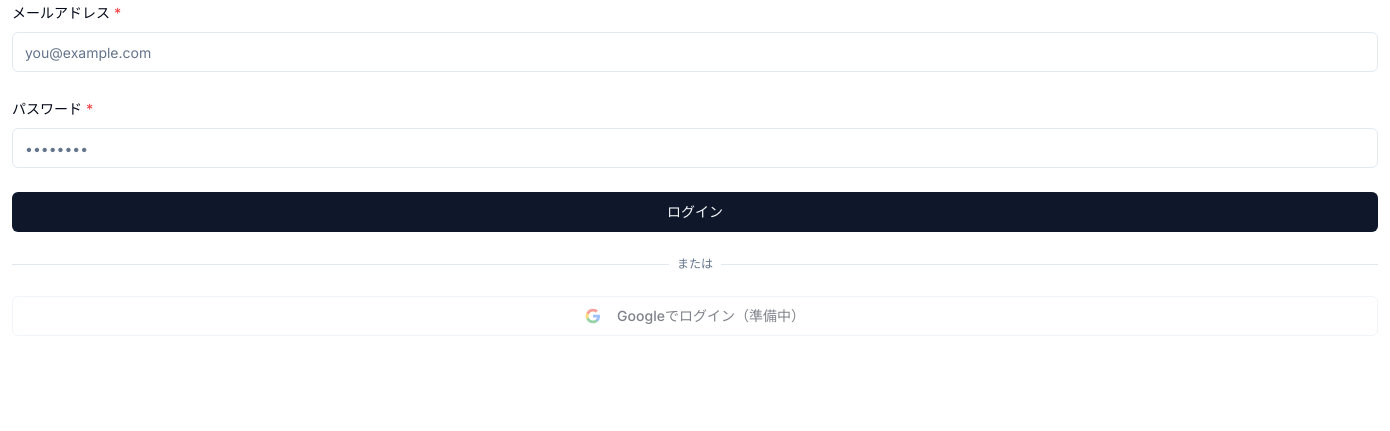
LoginForm › フォーム送信 › ログイン失敗: 認証エラー時にエラーメッセージが表示されること
Type "test@example.com" into the field labelled "メールアドレス*" at point(695, 52), box [12,32,1378,72]
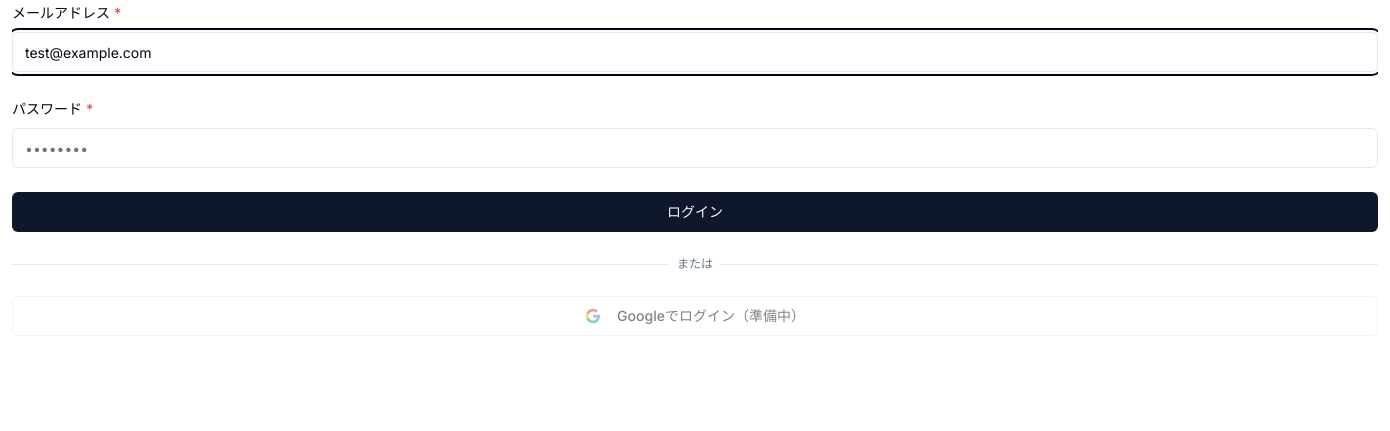
Type "WrongPassword" into the password field labelled "パスワード*" at point(695, 148), box [12,128,1378,168]
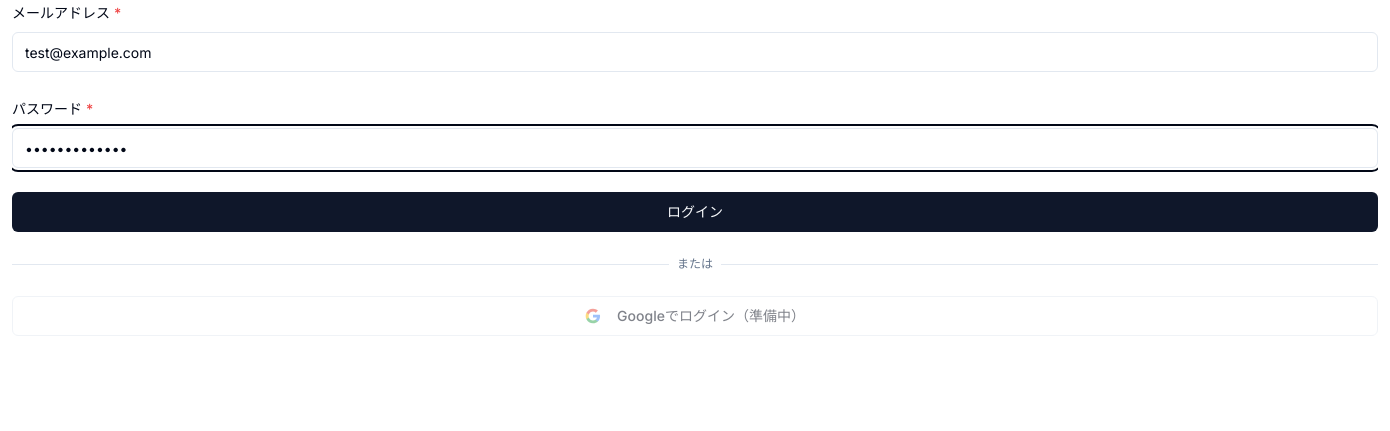
Click the button "ログイン" at point(695, 212), box [12,192,1378,232]
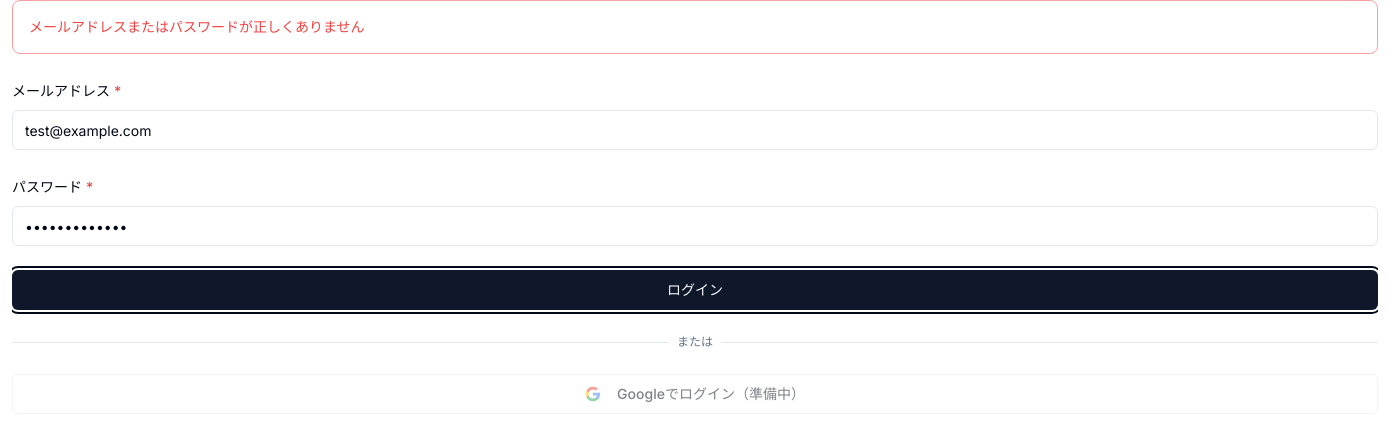
Check: the text "メールアドレスまたはパスワードが正しくありません" is shown, box [29,18,365,35]
